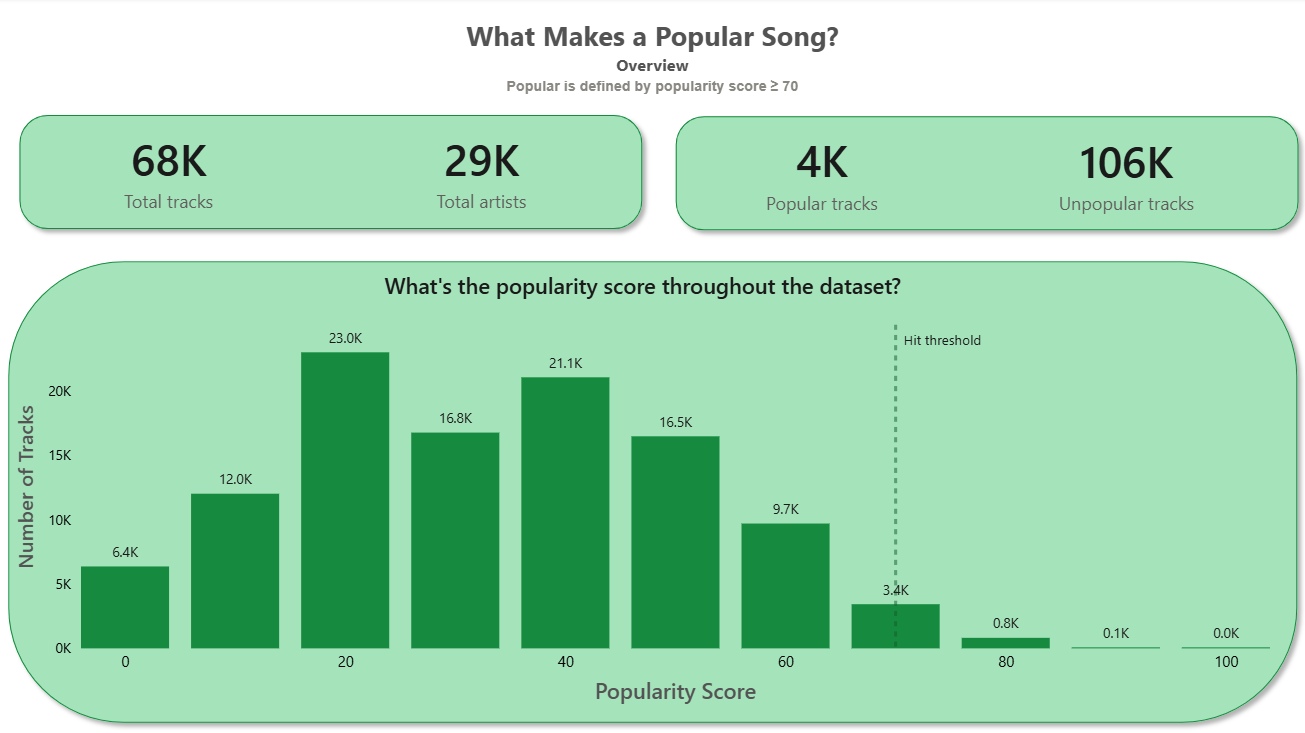

The page's visual inventory and layout, read from the dashboard file:
{"tool":"powerbi","page":{"name":"Overview","canvas":[1280,720],"ordinal":0},"visuals":[{"type":"group","id":"g1","title":"Background","box":[0,106.4,1280.3,612.6],"z":0},{"type":"shape","box":[11,106.4,627.3,129.6],"z":0,"group":"g1"},{"type":"cardVisual","fields":{"Data":["Count(Spotify.track_name)","Count(Spotify.artists)"]},"box":[0,105.2,639.5,130.8],"z":1000},{"type":"shape","box":[653,107.6,627.3,129.6],"z":1000,"group":"g1"},{"type":"textbox","box":[377.4,15.1,522.8,91.9],"z":2000},{"type":"shape","box":[0,249.5,1279.1,469.6],"z":2000,"group":"g1"},{"type":"clusteredColumnChart","title":"What''s the popularity score throughout the dataset?","fields":{"Category":["Spotify.Popularity Bins"],"Y":["CountNonNull(Spotify.track_id)"]},"box":[11,267.8,1237.5,429.2],"z":3000},{"type":"cardVisual","title":"unpop","fields":{"Data":["CountNonNull(Spotify.popularity)"]},"box":[957.5,106.4,291,130.8],"z":4000},{"type":"cardVisual","title":"unpop","fields":{"Data":["CountNonNull(Spotify.popularity)"]},"box":[653,107.6,304.5,128.4],"z":5000}]}

Visuals, with their boxes in screenshot pixels (x1, y1, x2, y2), scaled from the page's 1280x720 canvas onto the 1305x733 screenshot:
"Background" group: (left=0, top=108, right=1304, bottom=732)
shape: (left=11, top=108, right=651, bottom=240)
cardVisual - Count(Spotify.track_name) x Count(Spotify.artists): (left=0, top=107, right=652, bottom=240)
shape: (left=666, top=110, right=1304, bottom=241)
textbox: (left=385, top=15, right=918, bottom=109)
shape: (left=0, top=254, right=1304, bottom=732)
"What''s the popularity score throughout the dataset?" clusteredColumnChart: (left=11, top=273, right=1273, bottom=710)
"unpop" cardVisual: (left=976, top=108, right=1273, bottom=241)
"unpop" cardVisual: (left=666, top=110, right=976, bottom=240)
